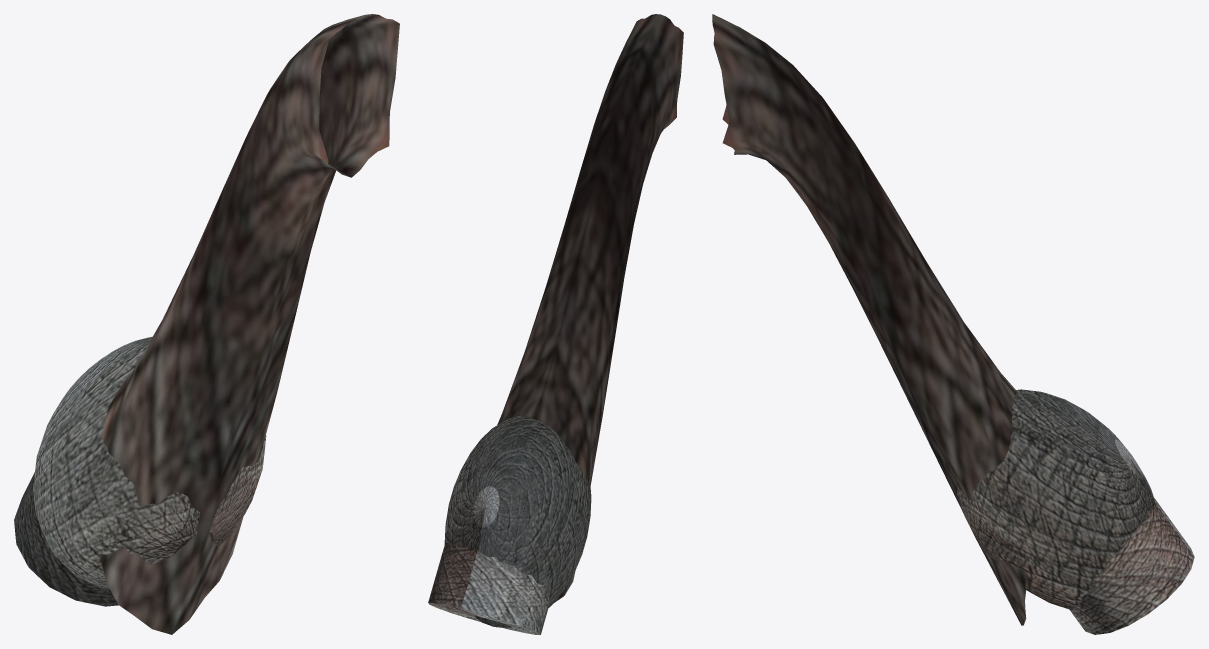
The model's file is cuello.obj.
3 renders of one model, left to right at view 1: azimuth 30°, elevation 25°; view 2: azimuth 150°, elevation 25°; view 3: azimuth 270°, elevation 25°, orthographic. The views are drawn at different scales.
Visible parts, largest first — view 1: Cuello; view 2: Cuello; view 3: Cuello.
Boxes of the visible parts, <box> form: Cuello: <box>14,14,399,634</box>; Cuello: <box>428,14,683,634</box>; Cuello: <box>712,14,1194,634</box>.
Size of the model in its own units: 0.9894 by 3.88 by 2.79.
1 material, 1 textured.
